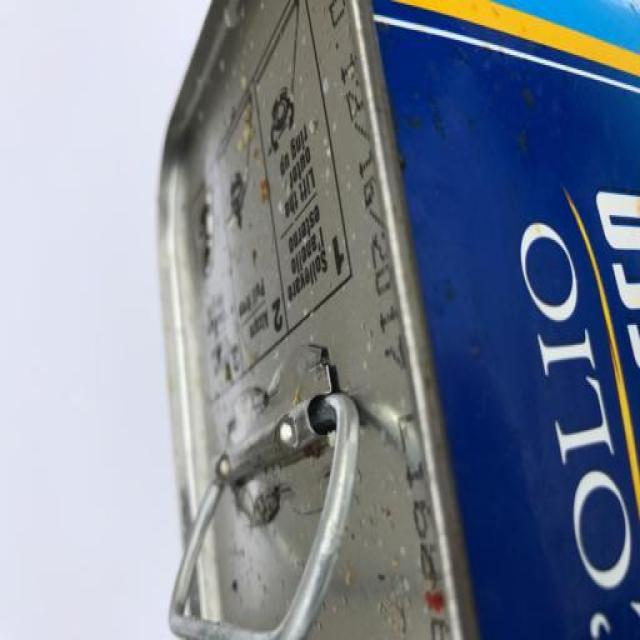metal: (153, 0, 638, 638)
